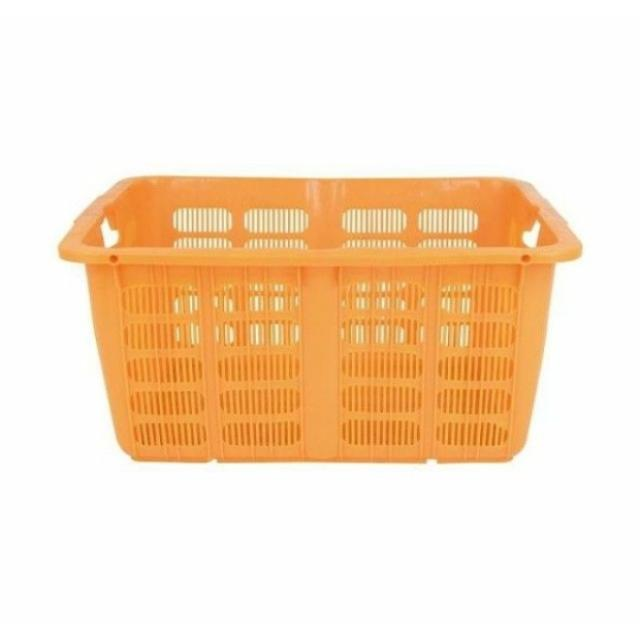basket: (61, 177, 582, 462)
